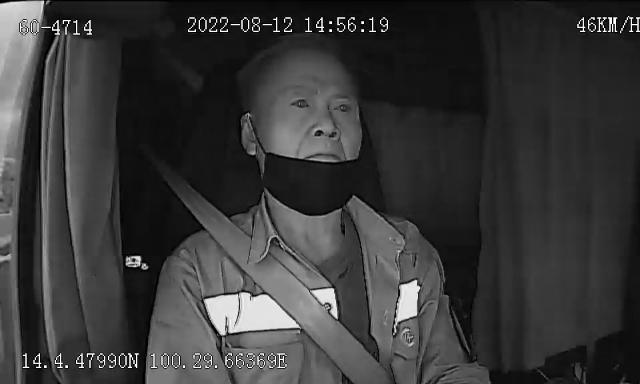SafeDriving: (284, 90, 318, 115), (327, 94, 358, 118)
Seatbelt: (168, 176, 394, 384)
